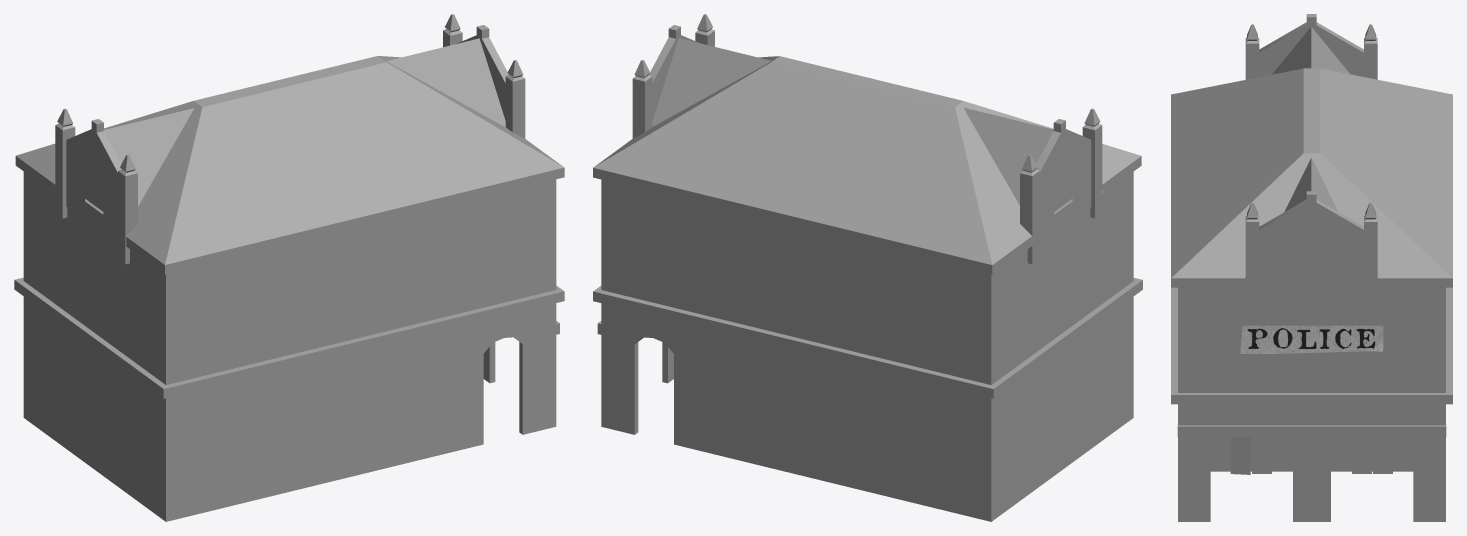
Rendered from police_station.fbx.
3 renders of one model, left to right at view 1: azimuth 30°, elevation 25°; view 2: azimuth 150°, elevation 25°; view 3: azimuth 270°, elevation 25°, orthographic. The views are drawn at different scales.
Parts seen in each view (by area): view 1: police_base, police_roof, police_windows_flipped, police_windows; view 2: police_base, police_roof, police_windows_flipped, police_windows; view 3: police_base, police_roof, police_windows_flipped, Title, police_doors, police_windows.
Part boxes in pixels (<box>): police_base: <box>14,14,564,521</box>; police_roof: <box>15,38,564,274</box>; police_windows_flipped: <box>41,199,522,433</box>; police_windows: <box>85,150,103,211</box>; police_base: <box>593,14,1142,521</box>; police_roof: <box>593,38,1141,274</box>; police_windows_flipped: <box>634,184,1116,433</box>; police_windows: <box>1054,150,1072,211</box>; police_base: <box>1171,14,1452,521</box>; police_roof: <box>1171,26,1452,287</box>; police_windows_flipped: <box>1197,277,1426,382</box>; Title: <box>1240,325,1383,353</box>; police_doors: <box>1230,437,1392,474</box>; police_windows: <box>1294,224,1328,275</box>.
Size of the model in its own units: 25.61 by 21.32 by 16.51.
